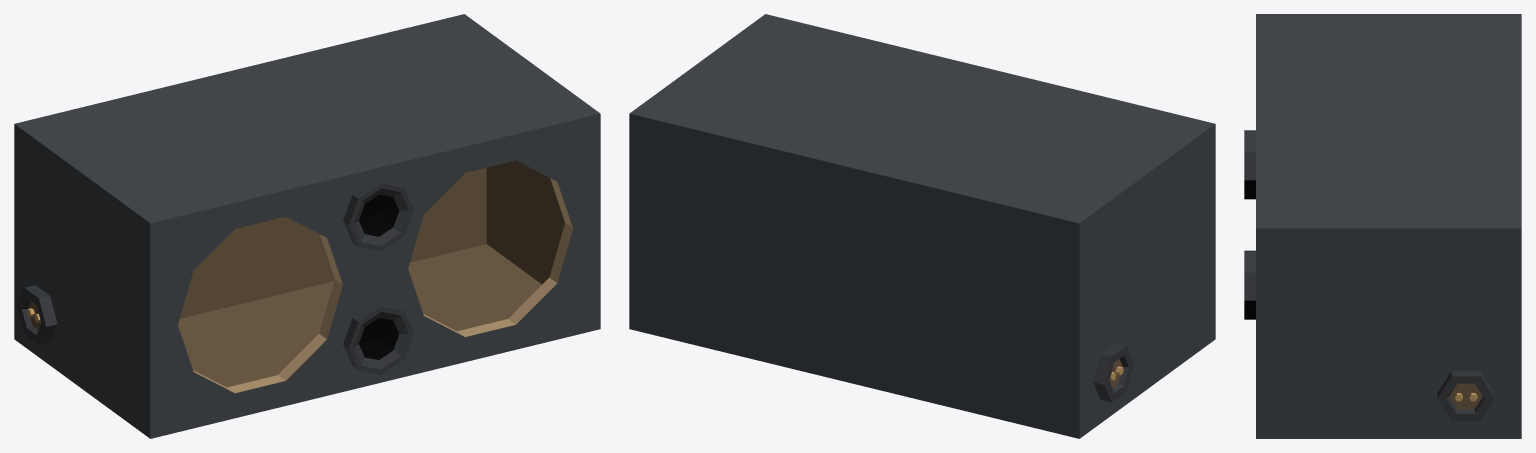
File: SM_Prop_SubBox_DoubleBox_01.fbx
3 renders of one model, left to right at view 1: azimuth 30°, elevation 25°; view 2: azimuth 150°, elevation 25°; view 3: azimuth 270°, elevation 25°, orthographic. The views are drawn at different scales.
Parts seen in each view (by area): view 1: SM_Prop_SubBox_DoubleBox_01; view 2: SM_Prop_SubBox_DoubleBox_01; view 3: SM_Prop_SubBox_DoubleBox_01.
Boxes of the visible parts, bbox=[...] form: SM_Prop_SubBox_DoubleBox_01: bbox=[14, 14, 600, 438]; SM_Prop_SubBox_DoubleBox_01: bbox=[629, 14, 1215, 438]; SM_Prop_SubBox_DoubleBox_01: bbox=[1244, 14, 1521, 438].
Size of the model in its own units: 158 by 68.74 by 82.06.
